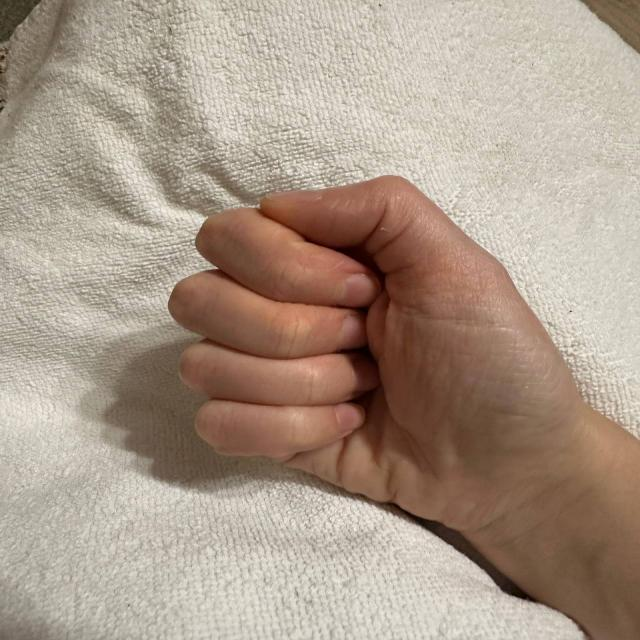a: (122, 145, 527, 532)
